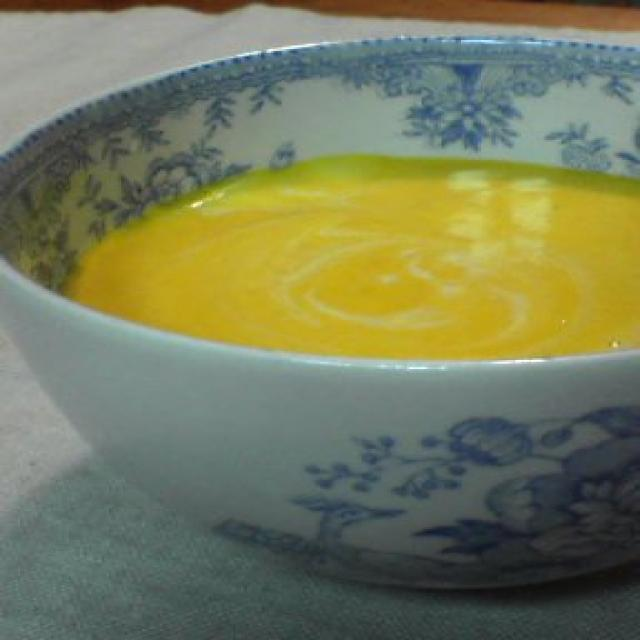汤锅炖物: (0, 20, 640, 611)
